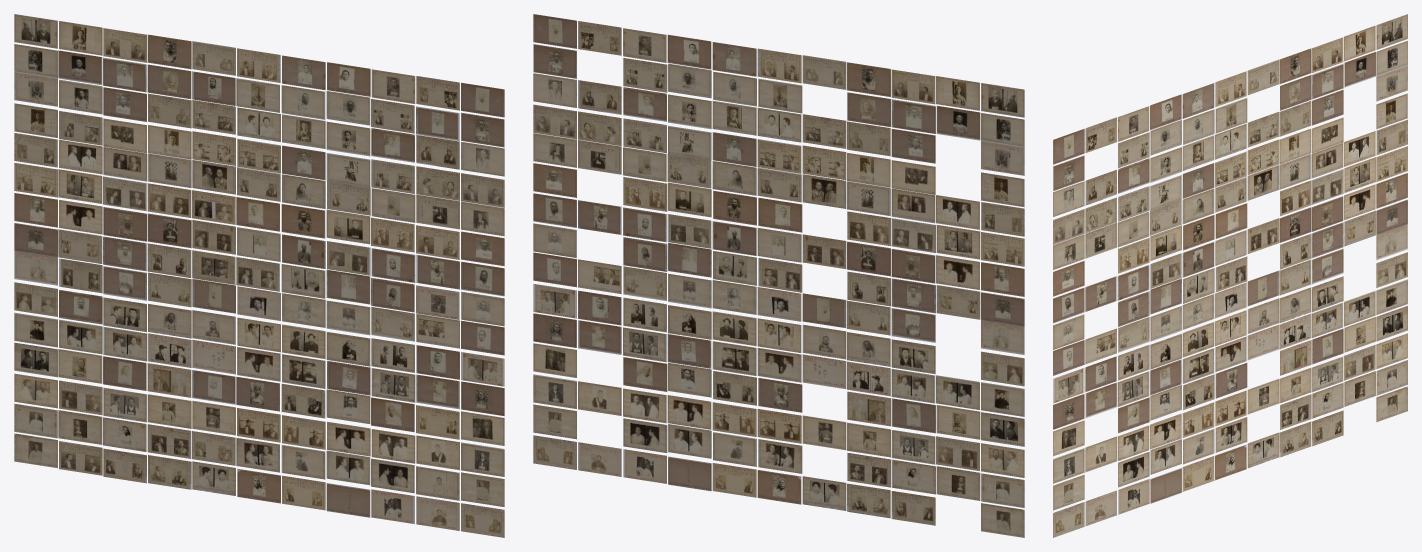
File: card.glb
3 renders of one model, left to right at view 1: azimuth 30°, elevation 25°; view 2: azimuth 210°, elevation 25°; view 3: azimuth 270°, elevation 25°, orthographic. The views are drawn at different scales.
Bounding box in the file's own units: 1.74 × 2.57 × 2.07.
2 materials, 2 textured.
